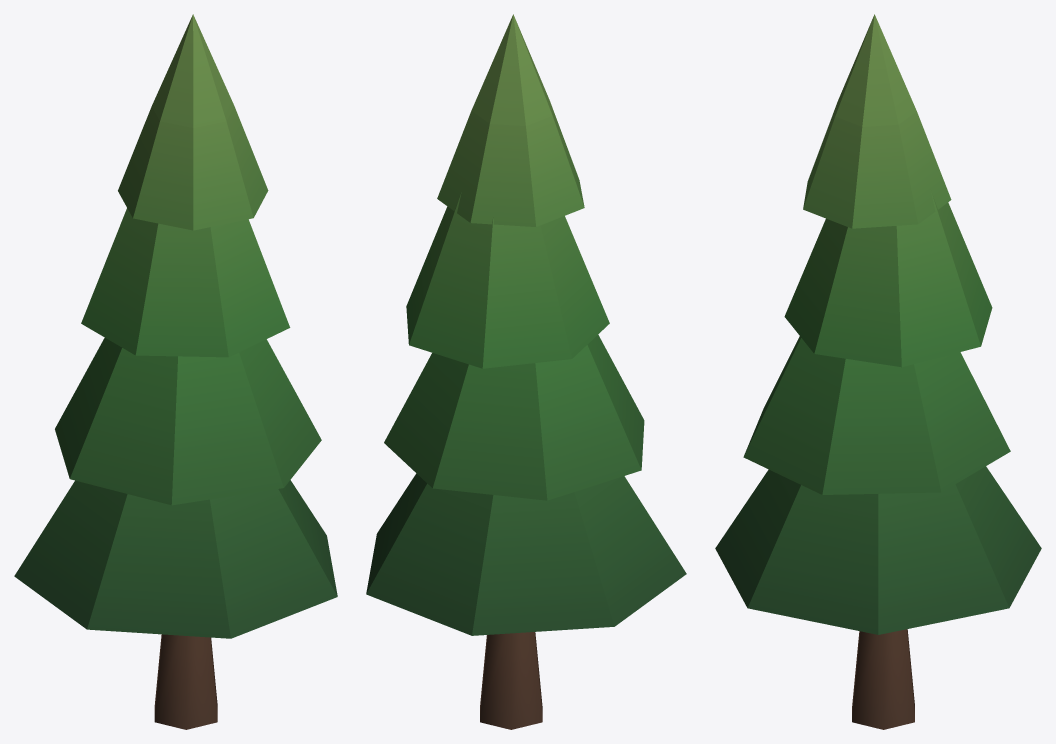
File: tree_pine_b.glb
The picture shows the model from 3 angles, left to right: view 1: azimuth 30°, elevation 25°; view 2: azimuth 150°, elevation 25°; view 3: azimuth 270°, elevation 25°; orthographic projection.
Parts seen in each view (by area): view 1: tree_pine_b; view 2: tree_pine_b; view 3: tree_pine_b.
Boxes of the visible parts, x1=… form: tree_pine_b: x1=14, y1=14, x2=337, y2=729; tree_pine_b: x1=366, y1=14, x2=686, y2=729; tree_pine_b: x1=715, y1=14, x2=1041, y2=729.
Bounding box in the file's own units: 8.74 × 21.26 × 8.97.
1 material, 1 textured.
